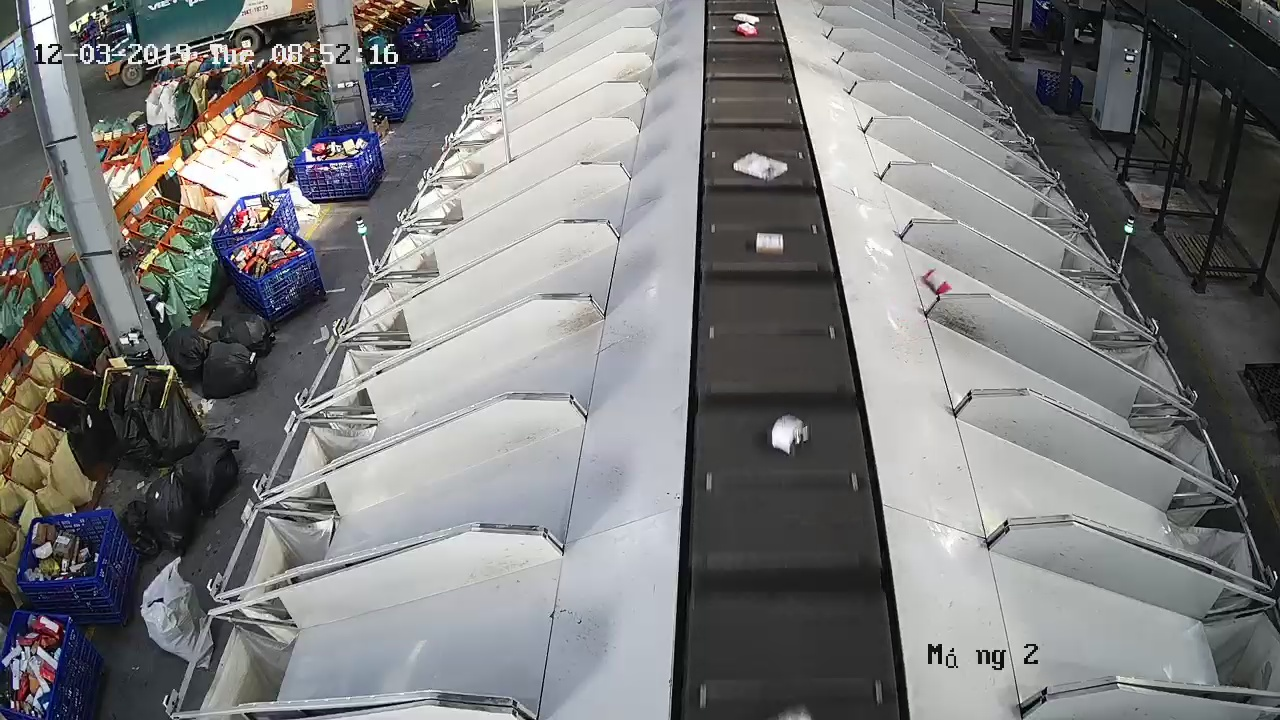parcel: (764, 411, 812, 459), (732, 151, 789, 183), (920, 266, 953, 294), (754, 231, 786, 256)
